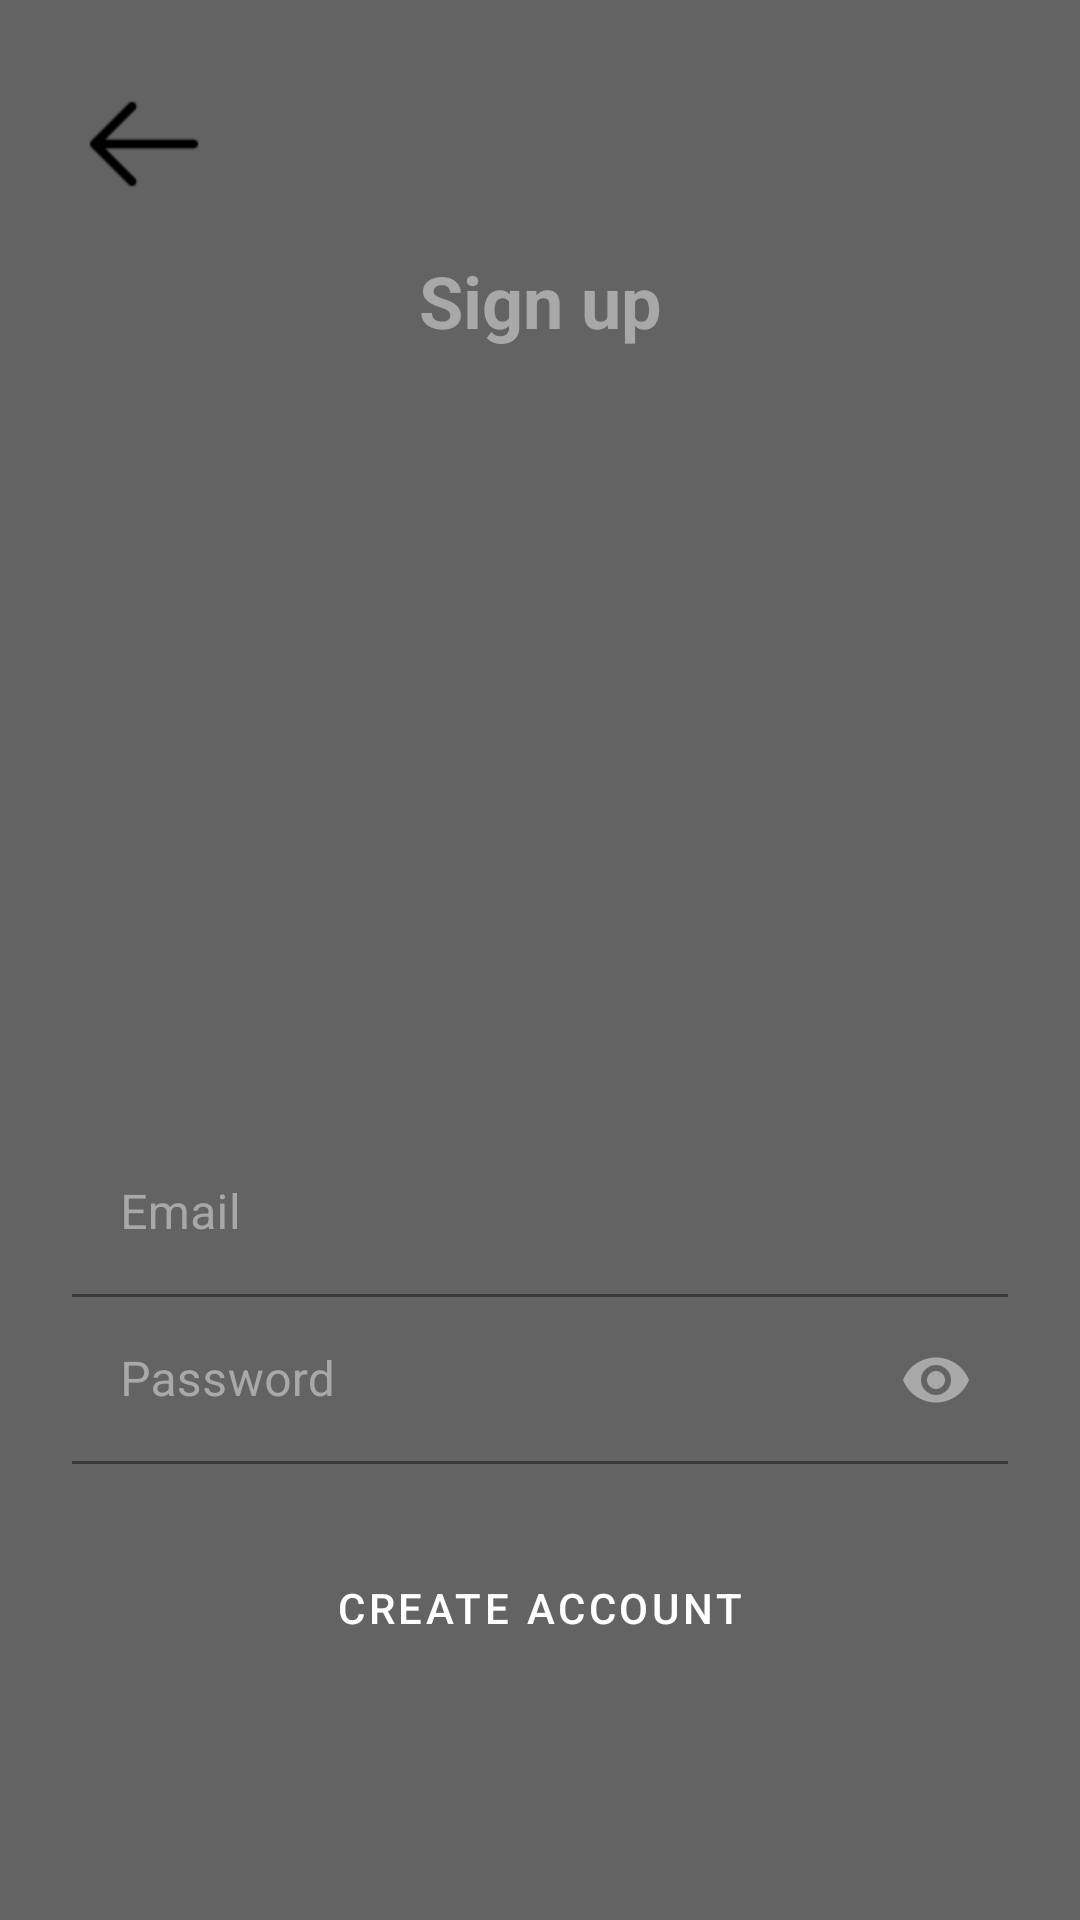

Locate icon controls on the screen. Image size 1080px×1920px, boxes as [x1, y1, x2, y2].
arrow left: [90, 102, 198, 186]
